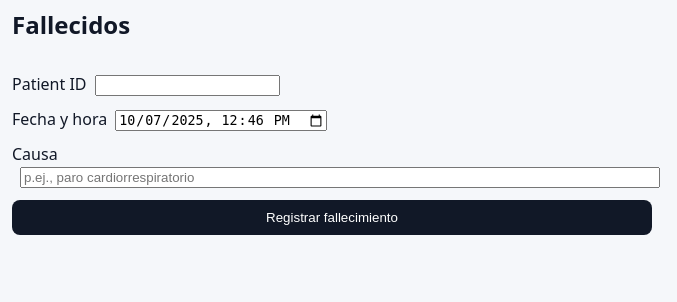
Test: Deceased renderiza y guarda en localStorage
Type "P999" into the field labelled "Patient ID".
click(187, 85); type("P999")  # box x1=94 y1=75 x2=280 y2=96
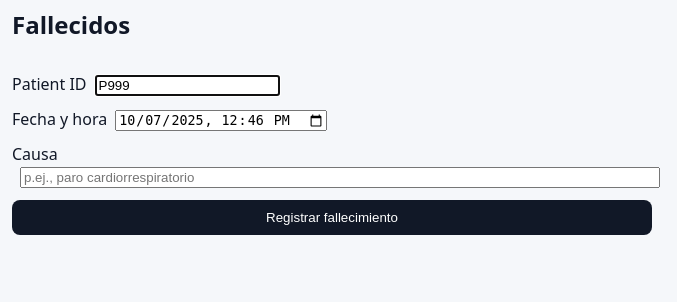
Replace the text in the field labelled "Fecha y hora" with "2025-01-01T10:00" at (221, 120), box x1=115 y1=110 x2=326 y2=131
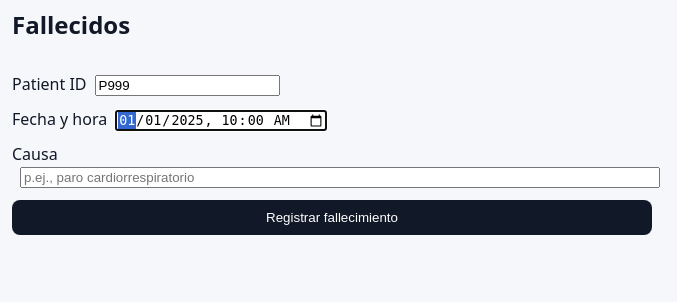
Type "PCR" into the field labelled "Causa".
click(340, 178); type("PCR")  # box x1=20 y1=167 x2=660 y2=188
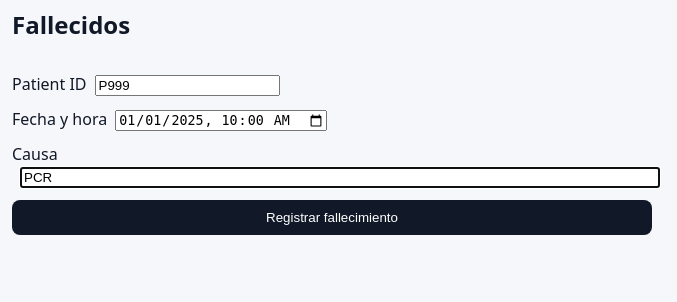
Click the button "Registrar fallecimiento".
click(332, 218)  # box x1=12 y1=200 x2=652 y2=235
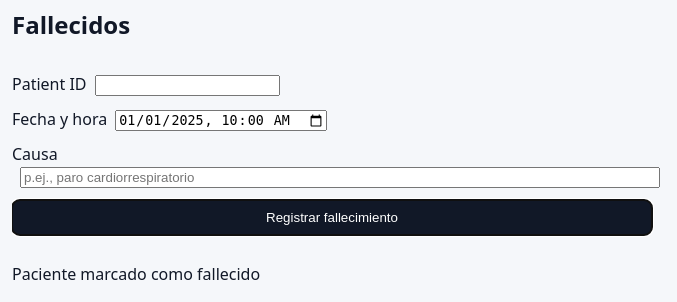
Result: the text "Paciente marcado como fallecido" is shown at x1=12 y1=263 x2=260 y2=285
